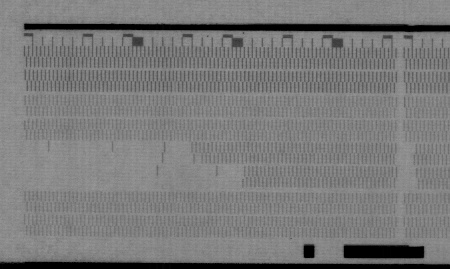Broken hole: (23, 138, 199, 194), (21, 165, 245, 194), (404, 141, 420, 193)
